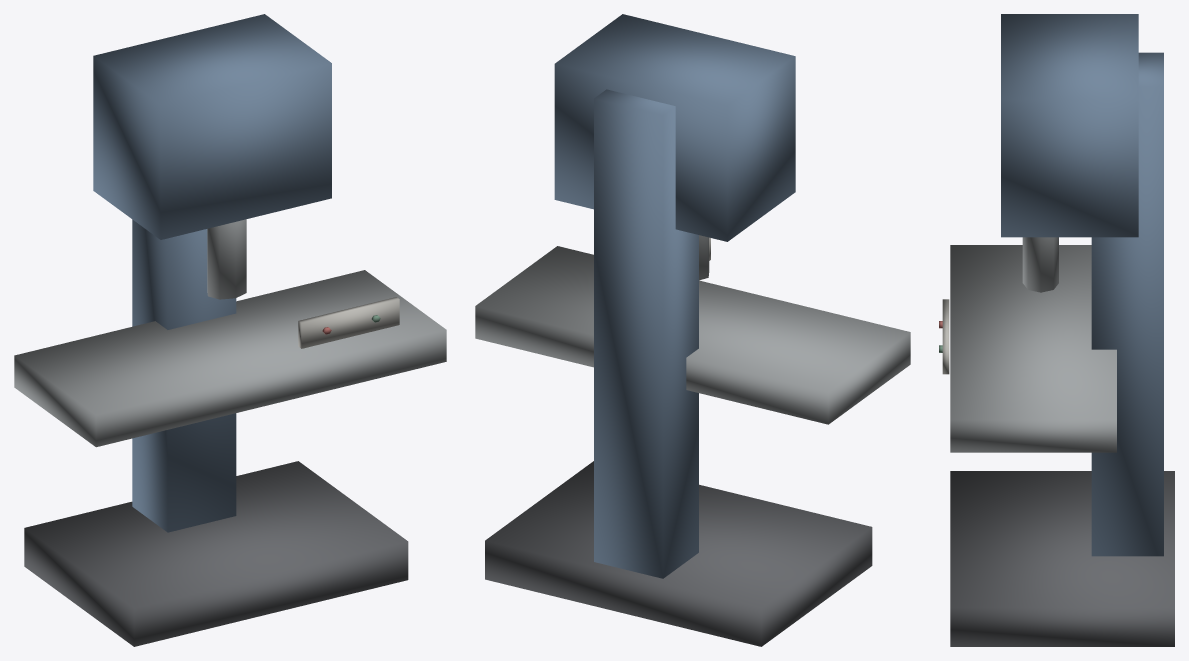
Rendered from milling_machine_silhouette__wide.glb.
3 renders of one model, left to right at view 1: azimuth 30°, elevation 25°; view 2: azimuth 150°, elevation 25°; view 3: azimuth 270°, elevation 25°, orthographic. The views are drawn at different scales.
Visible parts, largest first — view 1: world; view 2: world; view 3: world.
Part boxes in pixels (x1,y1,x2,y2): world: [14, 14, 446, 646]; world: [475, 14, 910, 646]; world: [939, 14, 1174, 646].
Bounding box in the file's own units: 1.14 × 1.59 × 0.651.
